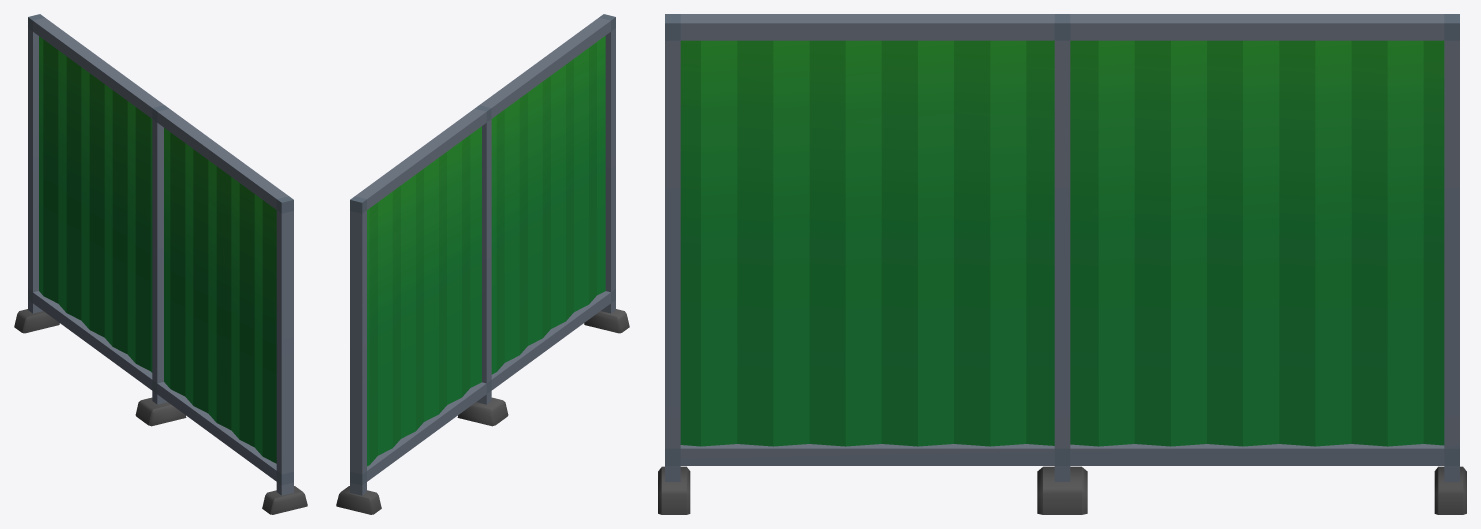
File: Barier_1_8.fbx
The picture shows the model from 3 angles, left to right: view 1: azimuth 30°, elevation 25°; view 2: azimuth 150°, elevation 25°; view 3: azimuth 270°, elevation 25°; orthographic projection. The views are drawn at different scales.
Visible parts, largest first — view 1: Barier_1_8; view 2: Barier_1_8; view 3: Barier_1_8.
Boxes of the visible parts, x1,y1,x2,y2 form: Barier_1_8: [14, 14, 307, 514]; Barier_1_8: [336, 14, 629, 514]; Barier_1_8: [658, 14, 1466, 514].
Bounding box in the file's own units: 34.35 × 268 × 407.
